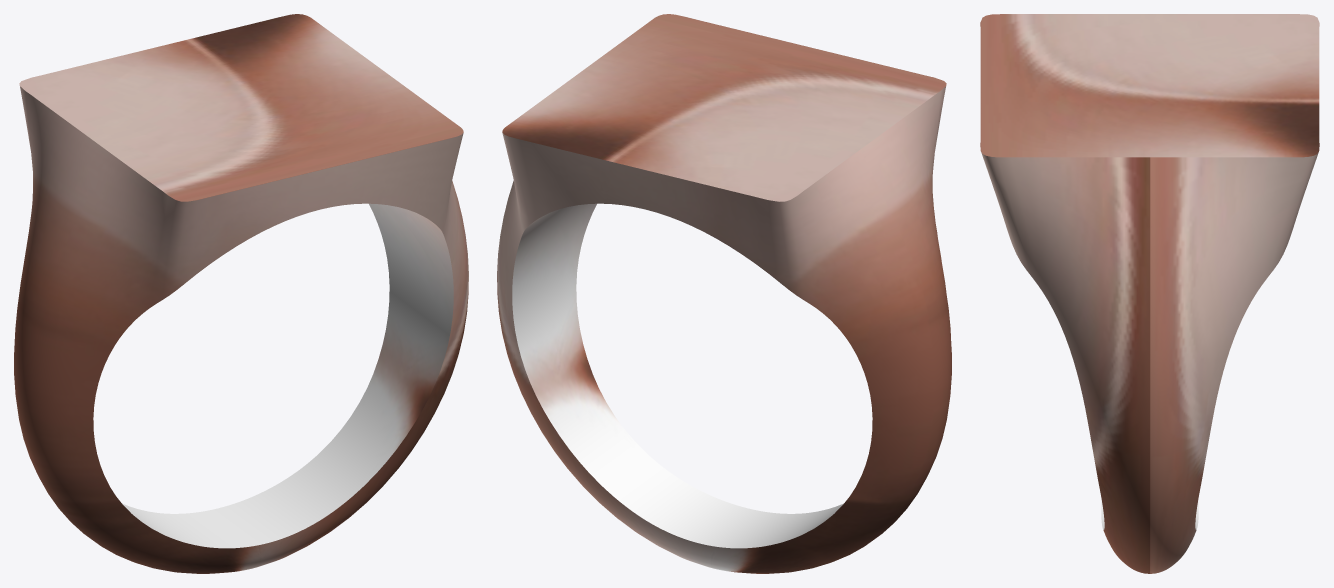
Rendered from Anillo formas Cuadro.fbx.
The picture shows the model from 3 angles, left to right: view 1: azimuth 30°, elevation 25°; view 2: azimuth 150°, elevation 25°; view 3: azimuth 270°, elevation 25°; orthographic projection.
Visible parts, largest first — view 1: Objeto_54; view 2: Objeto_54; view 3: Objeto_54.
Part boxes in pixels (box(x1,y1,x2,y2)): Objeto_54: box(14, 14, 468, 573); Objeto_54: box(497, 14, 951, 573); Objeto_54: box(980, 14, 1319, 573).
Bounding box in the file's own units: 21.34 × 14.02 × 21.15.
Materials: 1 (1 with a texture image).
